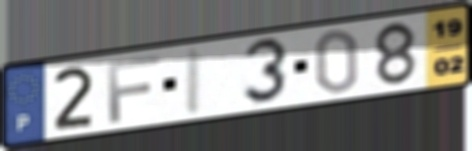0: (312, 27, 360, 96)
2: (52, 64, 95, 131)
3: (238, 35, 296, 108)
8: (371, 19, 422, 89)
F: (104, 53, 163, 125)
I: (182, 45, 205, 118)
